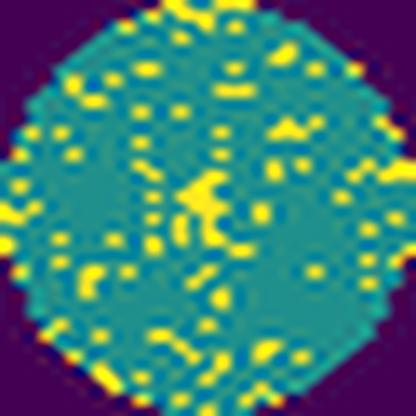Center: (174, 170, 245, 258)
